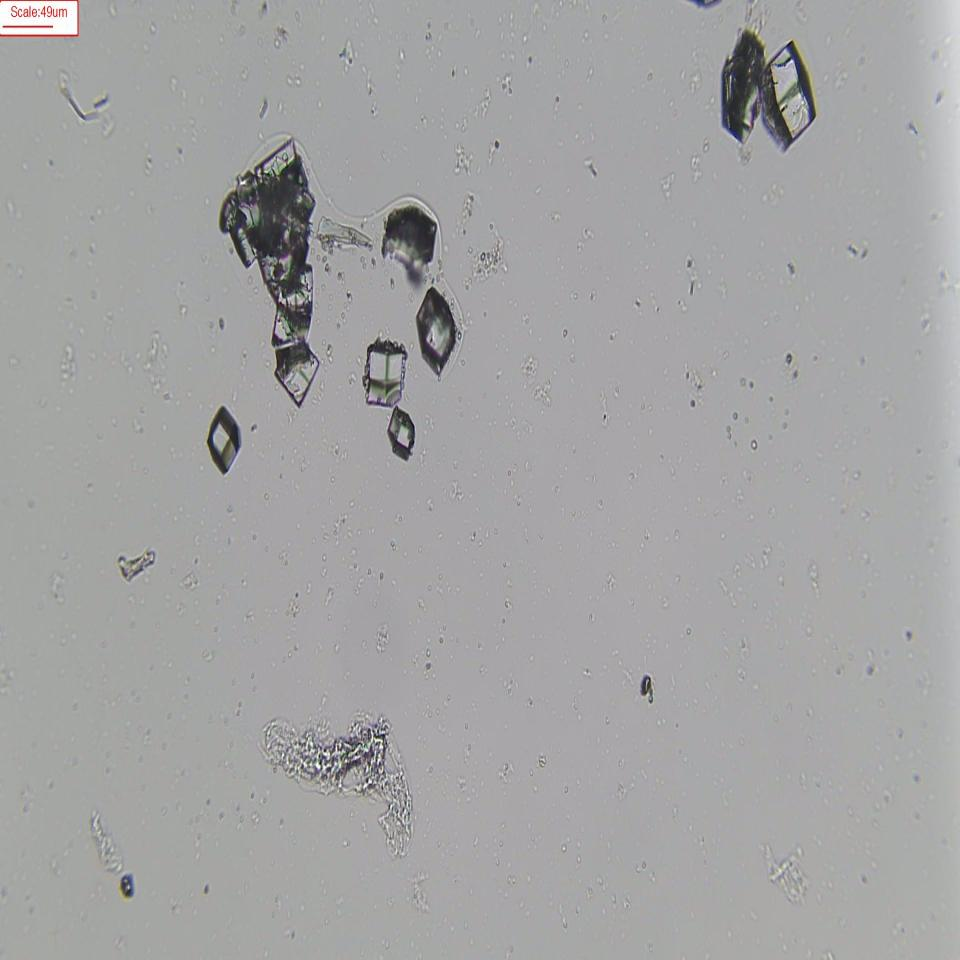crystal: (376, 202, 453, 299), (712, 15, 765, 140), (762, 44, 815, 143), (415, 288, 459, 376), (362, 343, 400, 403), (209, 411, 241, 470), (387, 405, 415, 452)
not_crystal: (217, 146, 317, 268), (267, 277, 323, 400)
